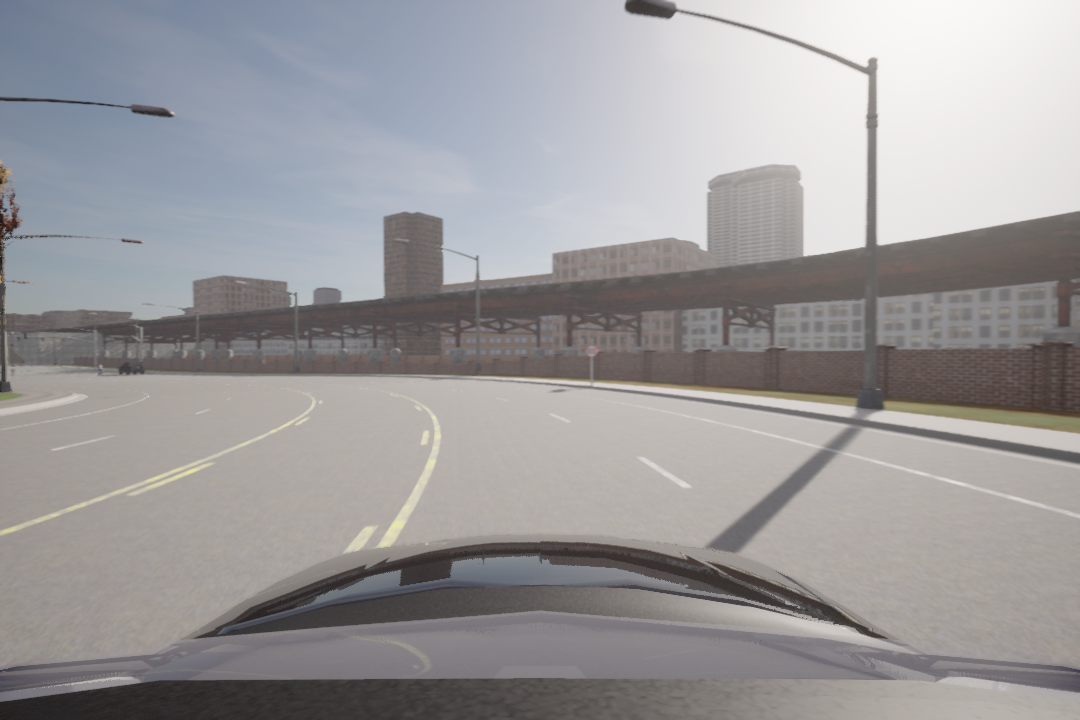TrafficSign_speed: (584, 346, 600, 357)
